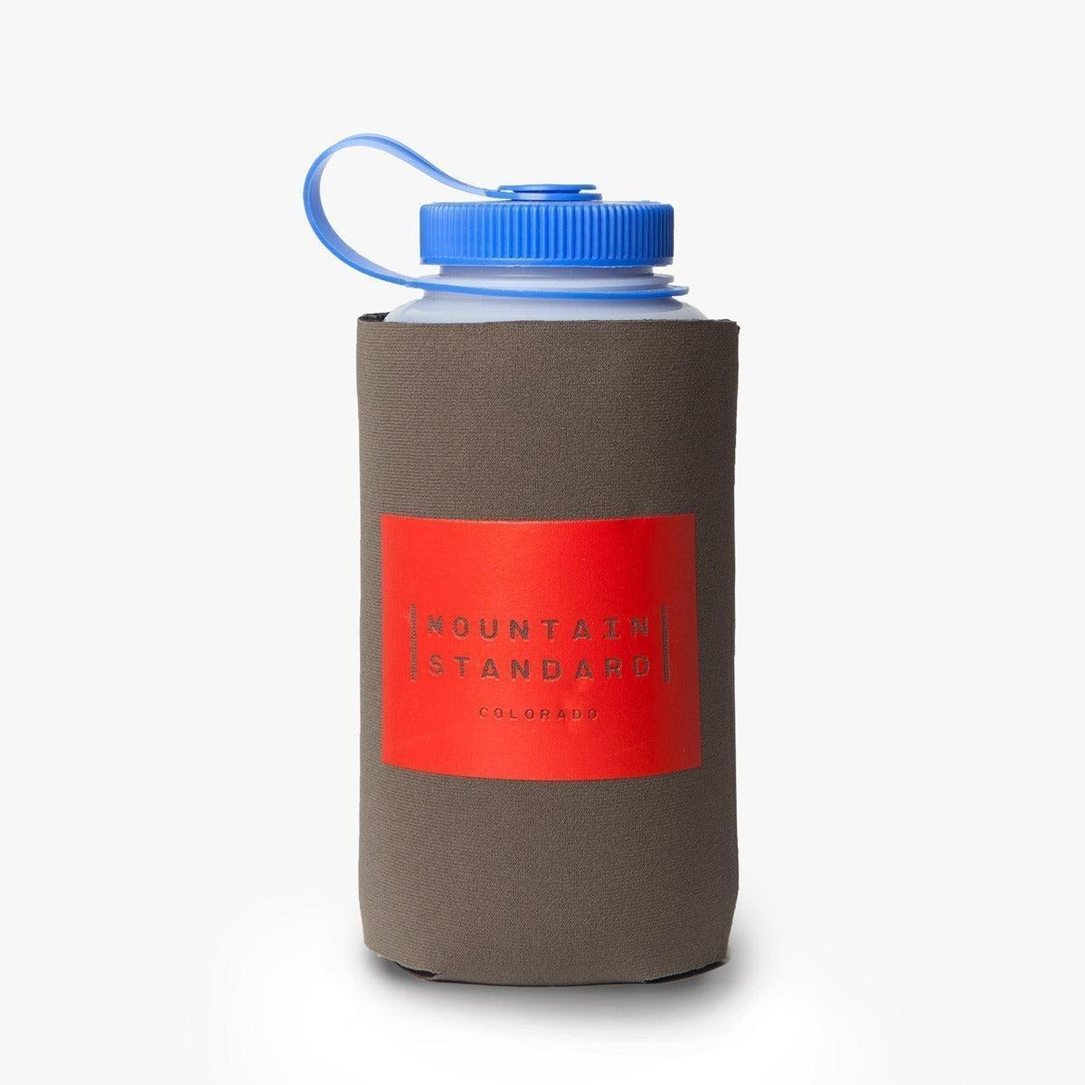gym bottle: (302, 129, 751, 992)
